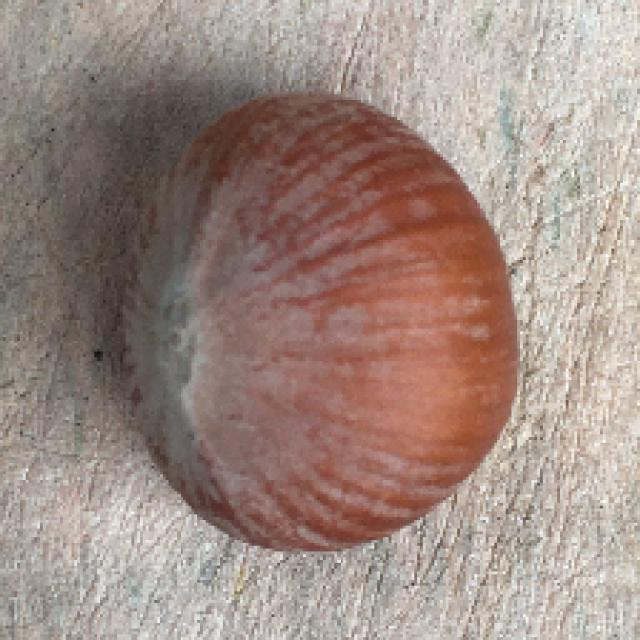qualityHazelnut: (101, 89, 525, 556)
